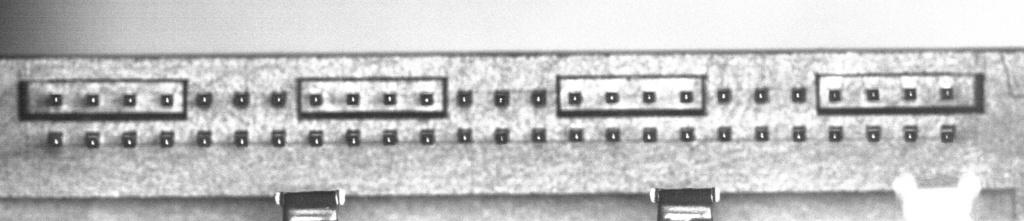pin_ok: (47, 131, 64, 148), (493, 89, 510, 106), (456, 89, 473, 106), (270, 90, 287, 107), (195, 91, 213, 107), (85, 131, 101, 148), (940, 125, 956, 142), (531, 88, 547, 105), (196, 130, 212, 147), (308, 129, 324, 146), (121, 131, 137, 148), (233, 91, 250, 107), (382, 129, 398, 145), (419, 128, 435, 144), (345, 129, 360, 146), (271, 129, 286, 146), (159, 130, 174, 147), (234, 129, 249, 146), (903, 125, 918, 142), (494, 128, 510, 143), (457, 127, 472, 143), (605, 127, 621, 142), (828, 126, 843, 142), (866, 126, 881, 142), (791, 87, 807, 102), (716, 87, 732, 102), (754, 87, 769, 103), (419, 91, 435, 106), (717, 126, 732, 141), (755, 126, 770, 141), (642, 127, 657, 142), (569, 127, 584, 142), (531, 127, 546, 142), (792, 125, 806, 141), (680, 127, 695, 141), (567, 91, 582, 105), (308, 92, 323, 106), (940, 86, 954, 100), (160, 93, 174, 107), (828, 88, 842, 102), (123, 92, 137, 106), (679, 90, 694, 103), (865, 88, 880, 101), (902, 87, 917, 100), (47, 93, 62, 106), (642, 90, 656, 103), (605, 91, 619, 104), (85, 93, 99, 106), (346, 92, 359, 105), (383, 92, 396, 105)
